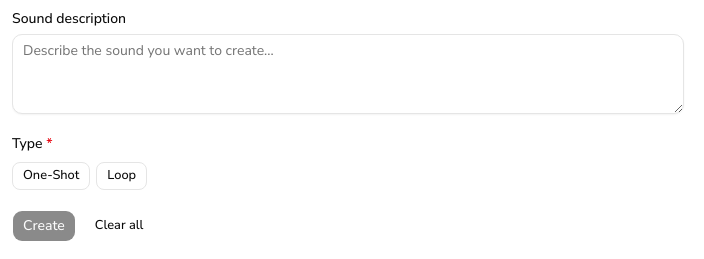
Test case: SoundsCreationForm › disables Create until both a description and a type are chosen
The width and height of the screenshot is (704, 259).
Expected: the button "Create" is disabled, [12,210,76,242]
Note: Description alone is not enough — the type is required.
Type "a punchy kick" into the text box labelled "Sound description" at x=348, y=74, box [12,34,684,114]
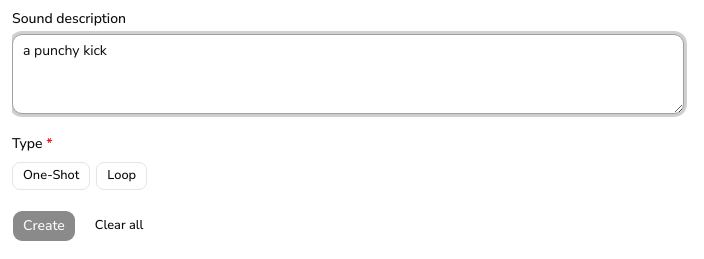
Expected: the button "Create" is disabled, [12,210,76,242]
Click the button "One-Shot" at x=51, y=176, box [12,162,90,190]
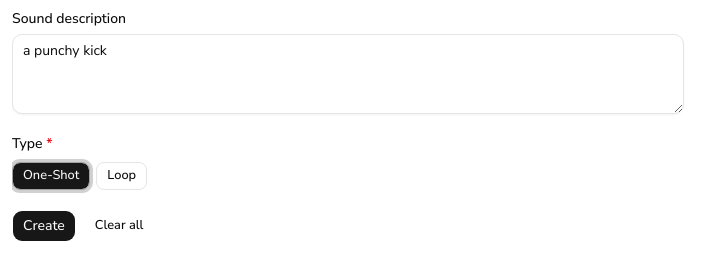
Now the button "Create" is enabled, box [12,210,76,242]
